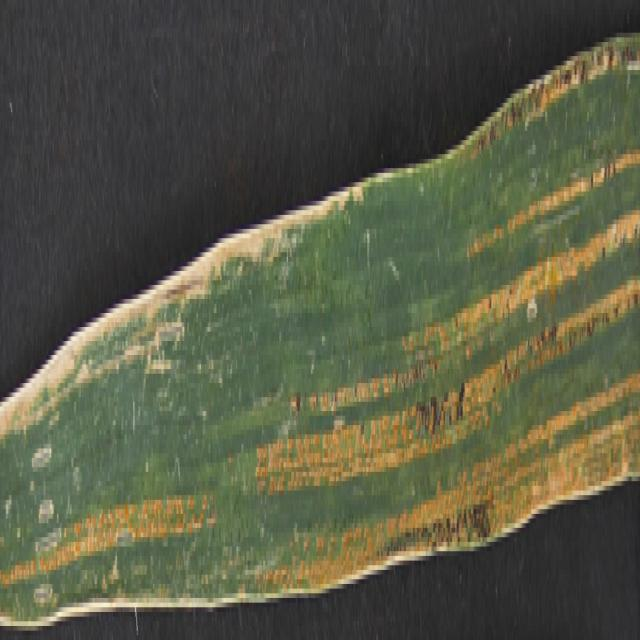leaf rust: (254, 47, 638, 612), (1, 430, 217, 640)
